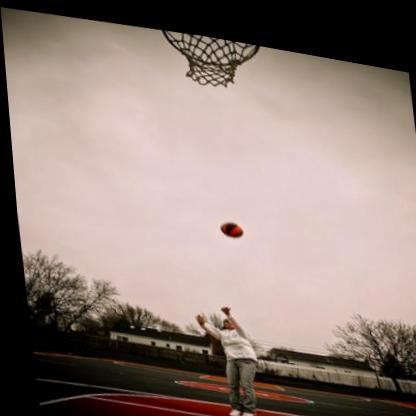basketball: (216, 211, 241, 233)
rim: (156, 22, 268, 65)
